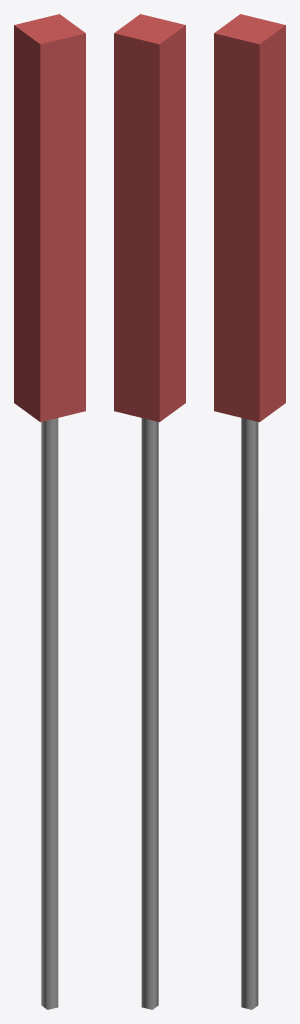
The model's file is Foliage_E.fbx.
3 renders of one model, left to right at view 1: azimuth 30°, elevation 25°; view 2: azimuth 150°, elevation 25°; view 3: azimuth 330°, elevation 25°, orthographic.
Visible parts, largest first — view 1: pCube14; view 2: pCube14; view 3: pCube14.
Part boxes in pixels (bbox=[...]): pCube14: bbox=[14, 14, 85, 1009]; pCube14: bbox=[114, 14, 185, 1009]; pCube14: bbox=[214, 14, 285, 1009].
Size of the model in its own units: 0.0299 by 0.6121 by 0.0299.
